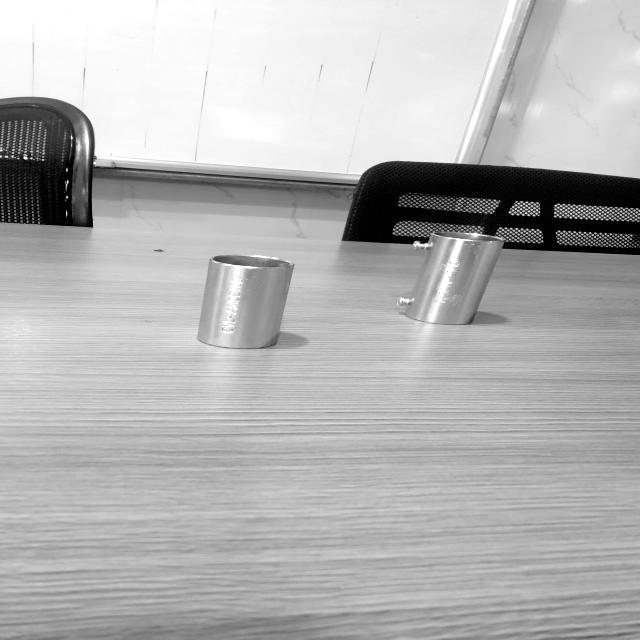Co_Lon: (391, 216, 505, 337)
Co_Nho: (194, 246, 295, 357)
